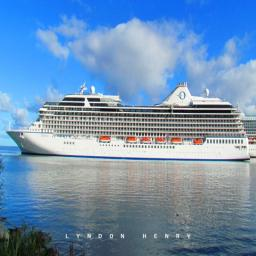cruises: (6, 80, 252, 165)
